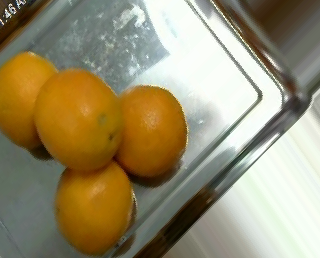Orange: (33, 67, 123, 169), (54, 159, 136, 253), (113, 84, 188, 178), (1, 51, 61, 150)
